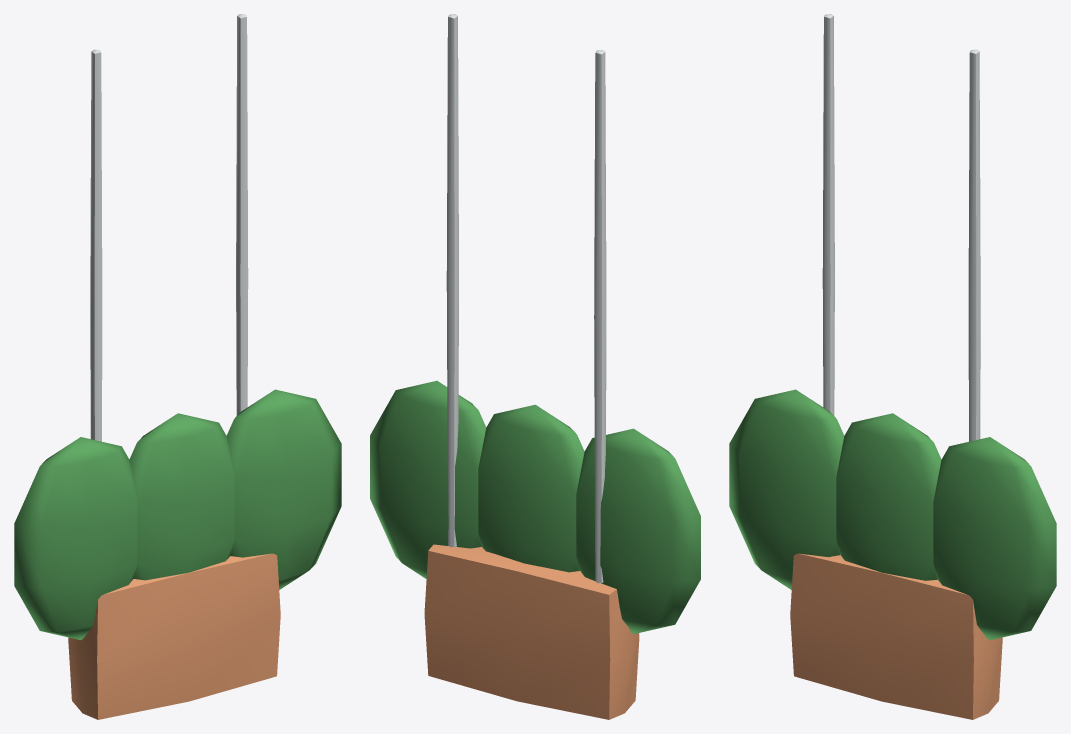
File: hanging-planter.glb
3 renders of one model, left to right at view 1: azimuth 30°, elevation 25°; view 2: azimuth 150°, elevation 25°; view 3: azimuth 330°, elevation 25°, orthographic.
Parts seen in each view (by area): view 1: detail (×3), part (×3); view 2: detail (×3), part (×3); view 3: detail (×3), part (×3).
Part boxes in pixels (bbox=[...]): detail (×3): bbox=[14, 389, 341, 640]; part (×3): bbox=[68, 14, 280, 719]; detail (×3): bbox=[370, 380, 700, 633]; part (×3): bbox=[424, 14, 639, 719]; detail (×3): bbox=[729, 389, 1056, 640]; part (×3): bbox=[790, 14, 1002, 719].
Size of the model in its own units: 0.5387 by 1.04 by 0.1.
1 material, 1 textured.
